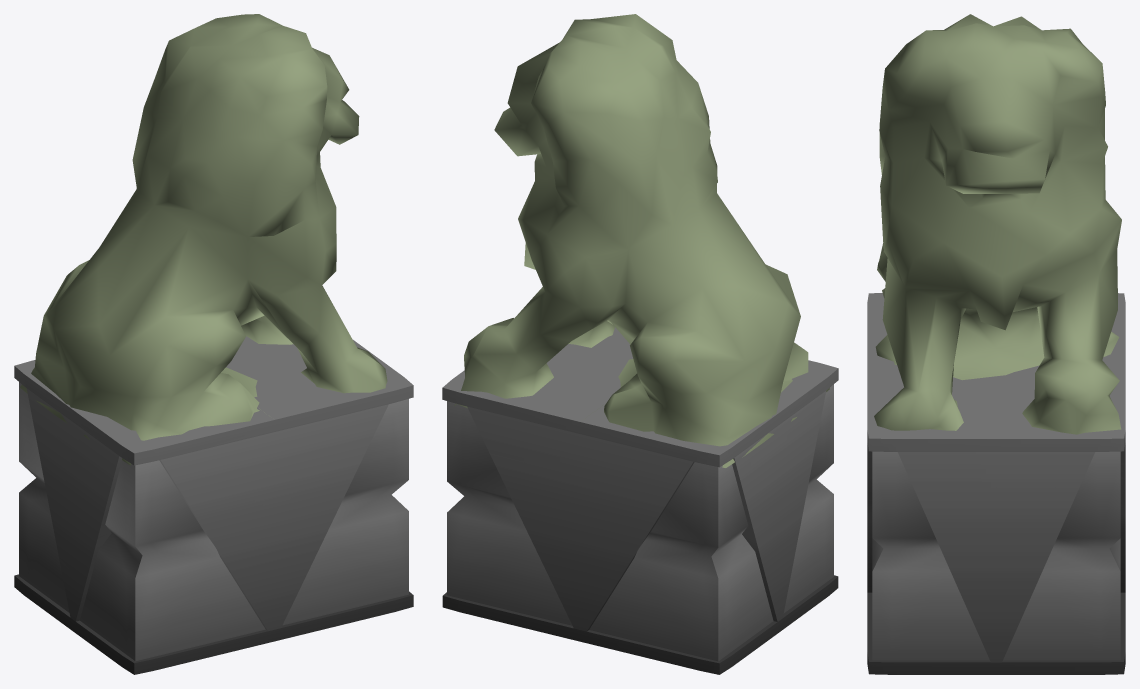
Rendered from ChineseLion.fbx.
3 views of the same model, side by side, from view 1: azimuth 30°, elevation 25°; view 2: azimuth 150°, elevation 25°; view 3: azimuth 270°, elevation 25° (orthographic). The views are drawn at different scales.
Parts seen in each view (by area): view 1: GuardianLionPlinth; view 2: GuardianLionPlinth; view 3: GuardianLionPlinth.
Part boxes in pixels (<box>): GuardianLionPlinth: <box>14,14,413,674</box>; GuardianLionPlinth: <box>442,14,838,674</box>; GuardianLionPlinth: <box>867,14,1125,674</box>.
Size of the model in its own units: 345 by 640 by 251.
